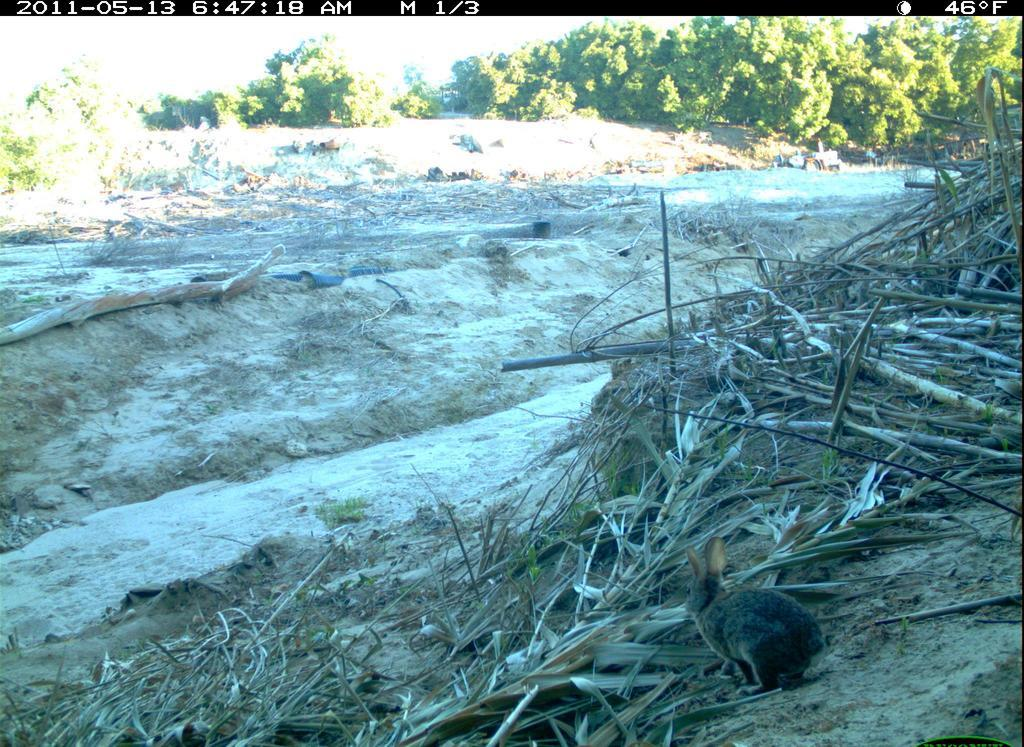rabbit: (678, 521, 834, 703)
